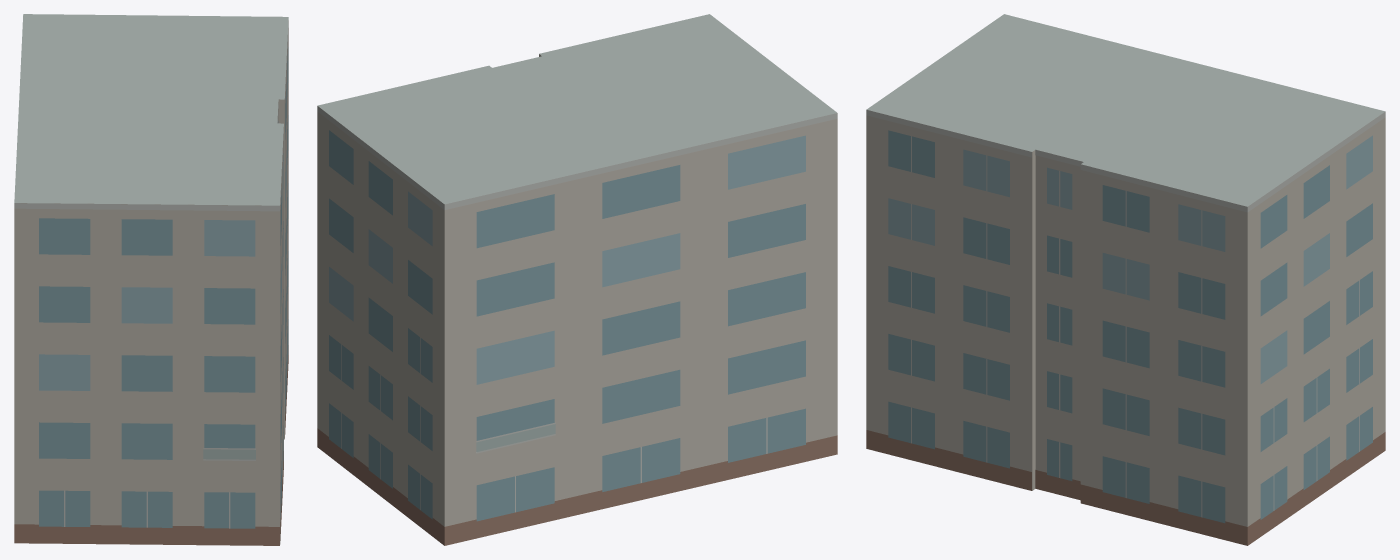
The model's file is survey-upis-32965257.glb.
3 renders of one model, left to right at view 1: azimuth 30°, elevation 25°; view 2: azimuth 150°, elevation 25°; view 3: azimuth 270°, elevation 25°, orthographic.
Visible parts, largest first — view 1: survey-upis-32965257.tmp; view 2: survey-upis-32965257.tmp; view 3: survey-upis-32965257.tmp.
Boxes of the visible parts, bbox=[...] form: survey-upis-32965257.tmp: bbox=[14, 14, 288, 545]; survey-upis-32965257.tmp: bbox=[317, 14, 837, 545]; survey-upis-32965257.tmp: bbox=[866, 14, 1385, 545].
Size of the model in its own units: 17.75 by 14.55 by 20.21.
